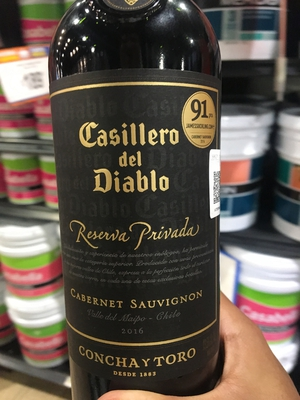casillero del diablo reserva privada cabernet sauvignon: (39, 10, 239, 379)
